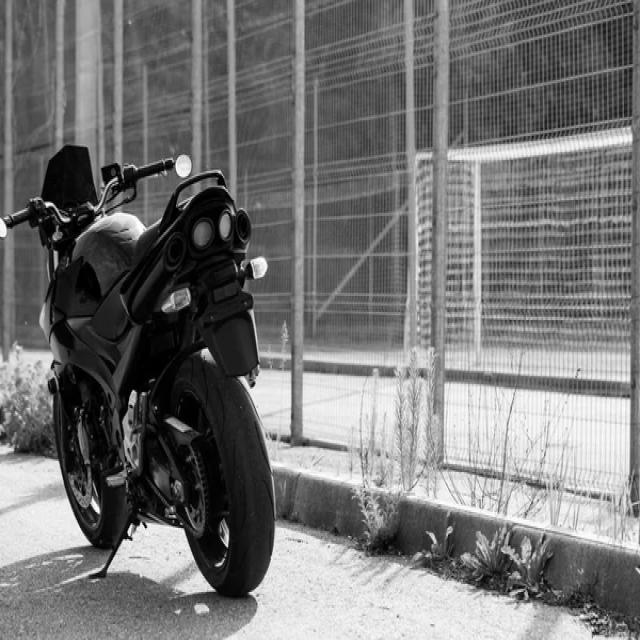Motorcycle: (0, 145, 275, 598)
